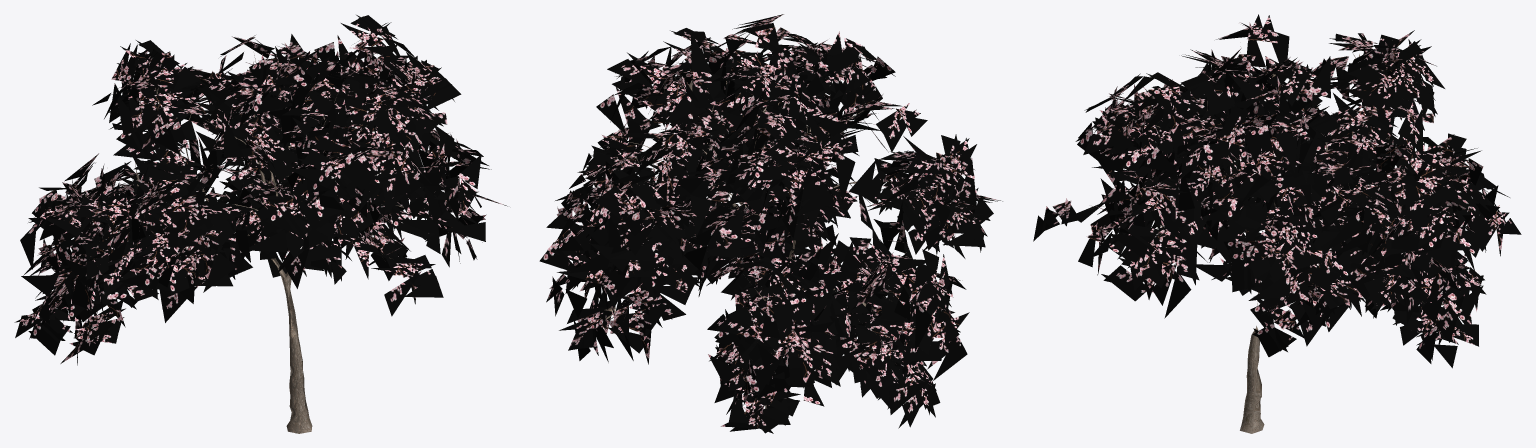
The model's file is Cherry_B_lod1.obj.
3 renders of one model, left to right at view 1: azimuth 30°, elevation 25°; view 2: azimuth 150°, elevation 25°; view 3: azimuth 270°, elevation 25°, orthographic.
Parts seen in each view (by area): view 1: model; view 2: model; view 3: model.
Part boxes in pixels (bbox=[...]): model: bbox=[14, 15, 507, 433]; model: bbox=[539, 14, 1002, 433]; model: bbox=[1033, 14, 1521, 433].
Size of the model in its own units: 66.37 by 56.69 by 67.06.
Materials: 2 (2 with a texture image).
